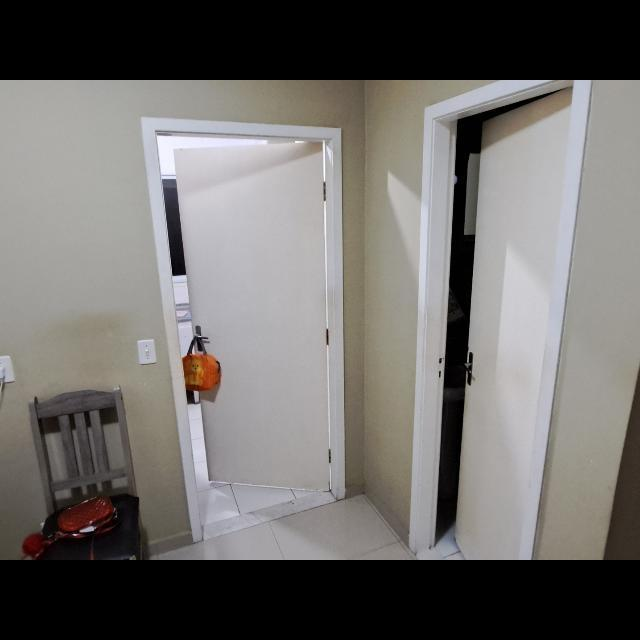door: (170, 144, 341, 494), (456, 84, 566, 558)
